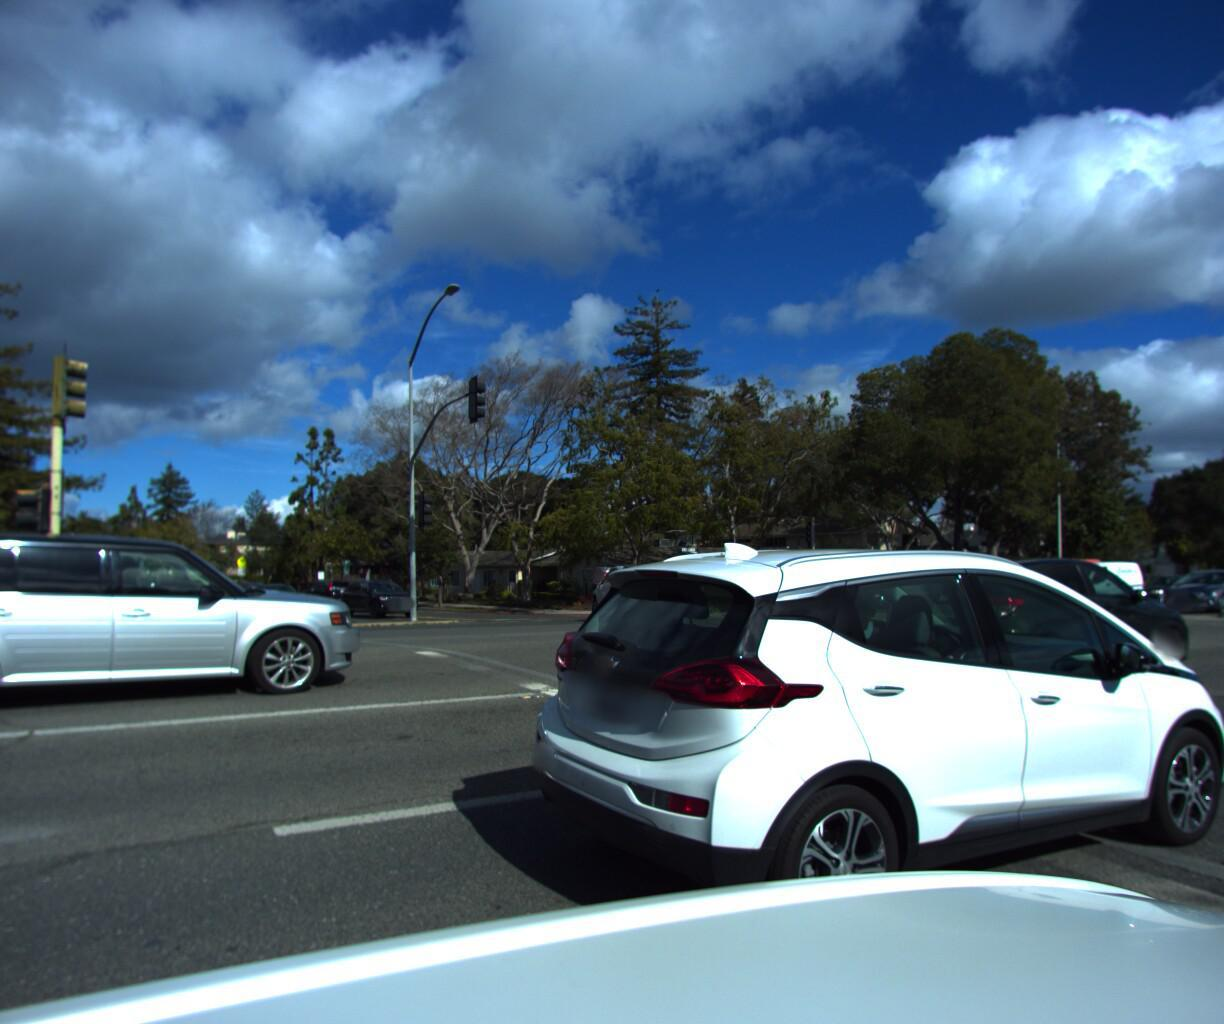car: (493, 530, 1224, 1024), (0, 520, 376, 743), (885, 550, 1216, 703), (993, 558, 1127, 616), (1022, 562, 1145, 617), (591, 564, 686, 630), (338, 583, 426, 625), (1146, 569, 1224, 617), (1113, 575, 1208, 609), (251, 584, 321, 623), (303, 579, 364, 613), (1197, 566, 1224, 605)
